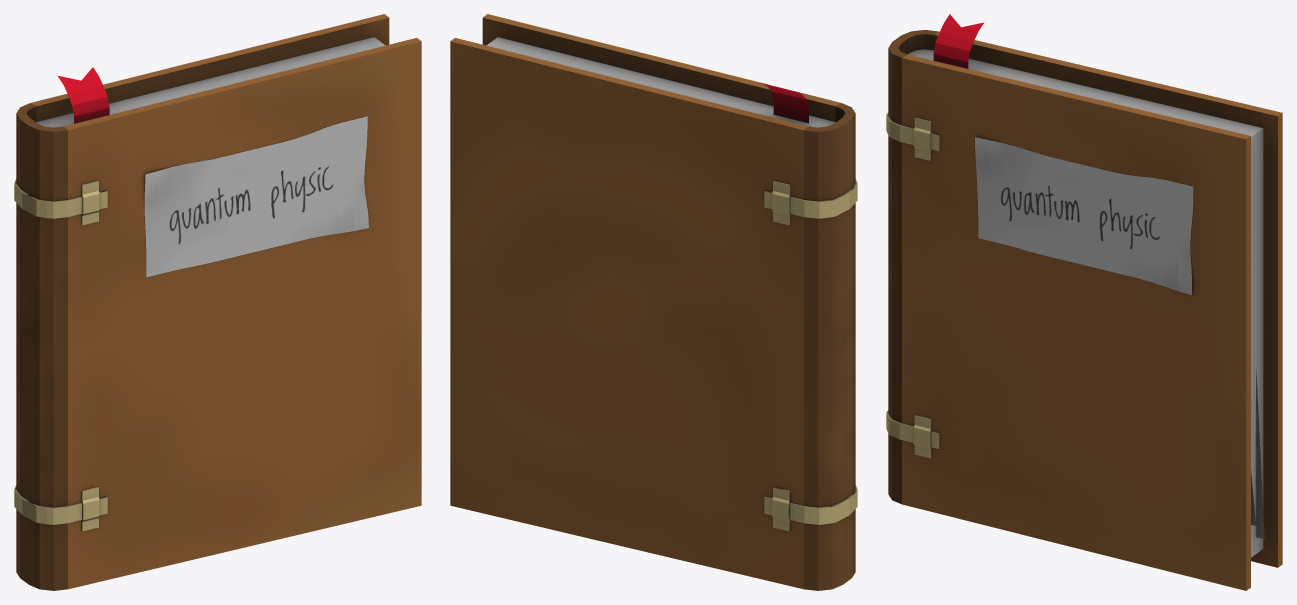
3 renders of one model, left to right at view 1: azimuth 30°, elevation 25°; view 2: azimuth 150°, elevation 25°; view 3: azimuth 330°, elevation 25°, orthographic. The views are drawn at different scales.
Visible parts, largest first — view 1: book; view 2: book; view 3: book.
Part boxes in pixels (box(x1,y1,x2,y2)): book: box(14, 14, 421, 590); book: box(450, 14, 857, 590); book: box(886, 14, 1282, 590).
Size of the model in its own units: 2.11 by 2.59 by 0.3926.
1 material, 1 textured.
